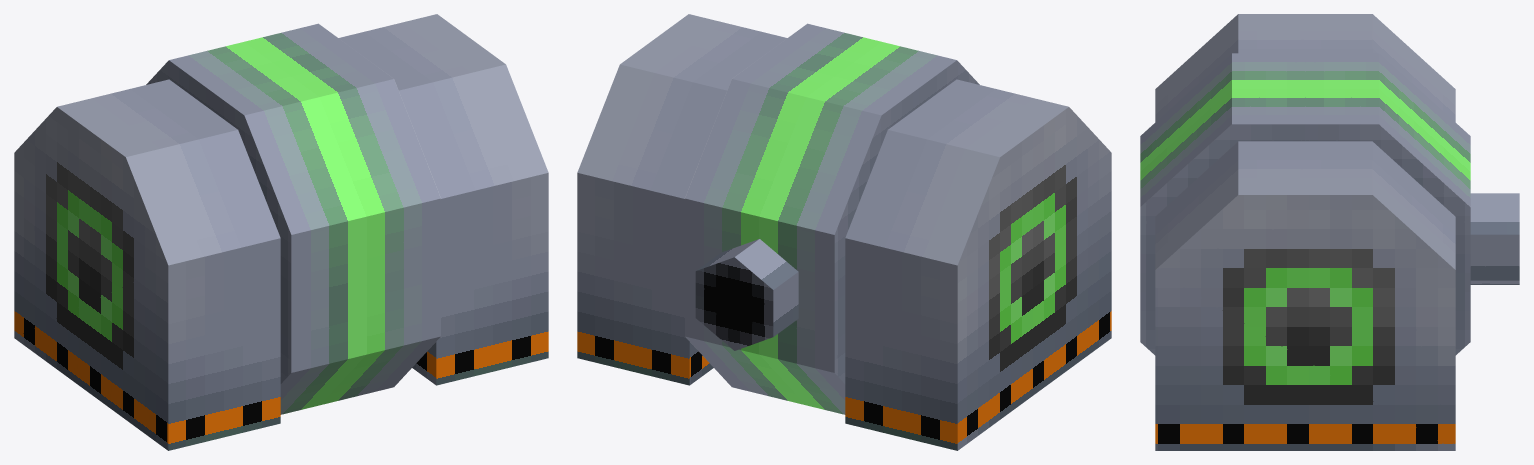
Rendered from turret.glb.
3 views of the same model, side by side, from view 1: azimuth 30°, elevation 25°; view 2: azimuth 150°, elevation 25°; view 3: azimuth 270°, elevation 25° (orthographic). The views are drawn at different scales.
Visible parts, largest first — view 1: base, turret; view 2: base, turret, barrel; view 3: base, turret, barrel.
Part boxes in pixels (x1,y1,x2,y2): base: (14, 14, 548, 450); turret: (146, 23, 440, 414); base: (577, 14, 1111, 450); turret: (685, 23, 979, 414); barrel: (695, 239, 798, 350); base: (1155, 14, 1455, 450); turret: (1140, 53, 1470, 355); barrel: (1470, 193, 1519, 284).
Bounding box in the file's own units: 0.8626 × 0.6683 × 0.7648.
Materials: 1 (1 with a texture image).
